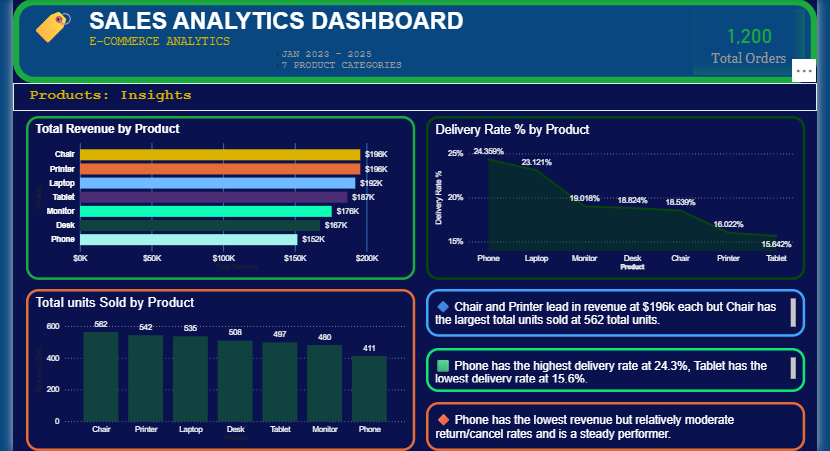

The page's visual inventory and layout, read from the dashboard file:
{"tool":"powerbi","page":{"name":"Products Dashboard","canvas":[1280,720],"ordinal":2},"visuals":[{"type":"shape","box":[0,0,1280.7,133.8],"z":0},{"type":"textbox","box":[116.3,9.6,619.6,117.9],"z":1000},{"type":"card","fields":{"Values":["Sheet1.Total Orders"]},"box":[1083.2,15.9,178.4,105.1],"z":2000},{"type":"shape","box":[0,133.8,1280.7,44.6],"z":3000},{"type":"textbox","box":[20.7,133.8,344.1,41.4],"z":4000},{"type":"clusteredBarChart","fields":{"Category":["Sheet1.Product"],"Y":["Sheet1.Total Revenue"]},"box":[20.7,186.4,619.6,261.2],"z":5000},{"type":"areaChart","fields":{"Category":["Sheet1.Product"],"Y":["Sheet1.Delivery Rate %"]},"box":[657.9,186.4,603.7,261.2],"z":6000},{"type":"columnChart","fields":{"Category":["Sheet1.Product"],"Y":["Sheet1.Total units Sold"]},"box":[20.7,461.9,619.6,258.1],"z":7000},{"type":"textbox","box":[657.9,461.9,603.7,76.5],"z":8000},{"type":"textbox","box":[657.9,555.9,603.7,70.1],"z":9000},{"type":"textbox","box":[657.9,641.9,603.7,78.1],"z":10000},{"type":"textbox","box":[20.7,0,92.4,105.1],"z":11000}]}

Visuals, with their boxes on the page's 1280x720 design canvas (x1, y1, x2, y2). These are canvas units, not pixel positions in the 830x451 screenshot, which may show the page scaled, cropped or inside an application window:
shape: 0/0/1281/134
textbox: 116/10/736/128
card - Sheet1.Total Orders: 1083/16/1262/121
shape: 0/134/1281/178
textbox: 21/134/365/175
clusteredBarChart - Sheet1.Product x Sheet1.Total Revenue: 21/186/640/448
areaChart - Sheet1.Product x Sheet1.Delivery Rate %: 658/186/1262/448
columnChart - Sheet1.Product x Sheet1.Total units Sold: 21/462/640/720
textbox: 658/462/1262/538
textbox: 658/556/1262/626
textbox: 658/642/1262/720
textbox: 21/0/113/105
